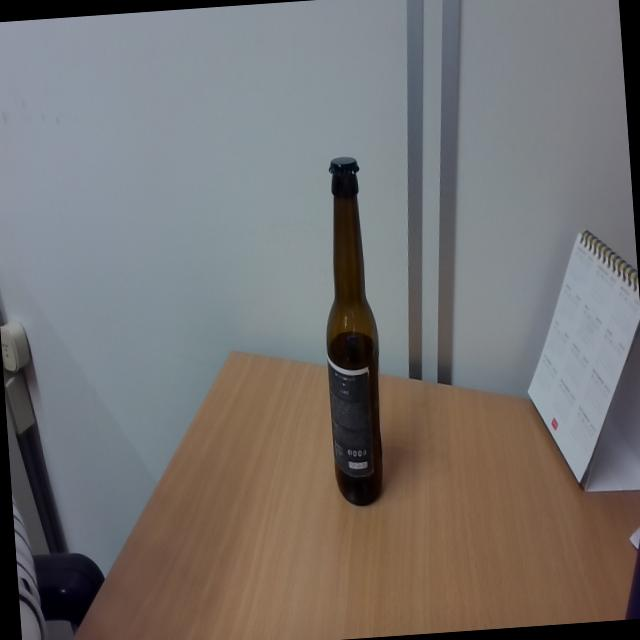Bottle: (312, 154, 391, 509)
Cap: (326, 155, 362, 179)
Label: (329, 357, 378, 478)
